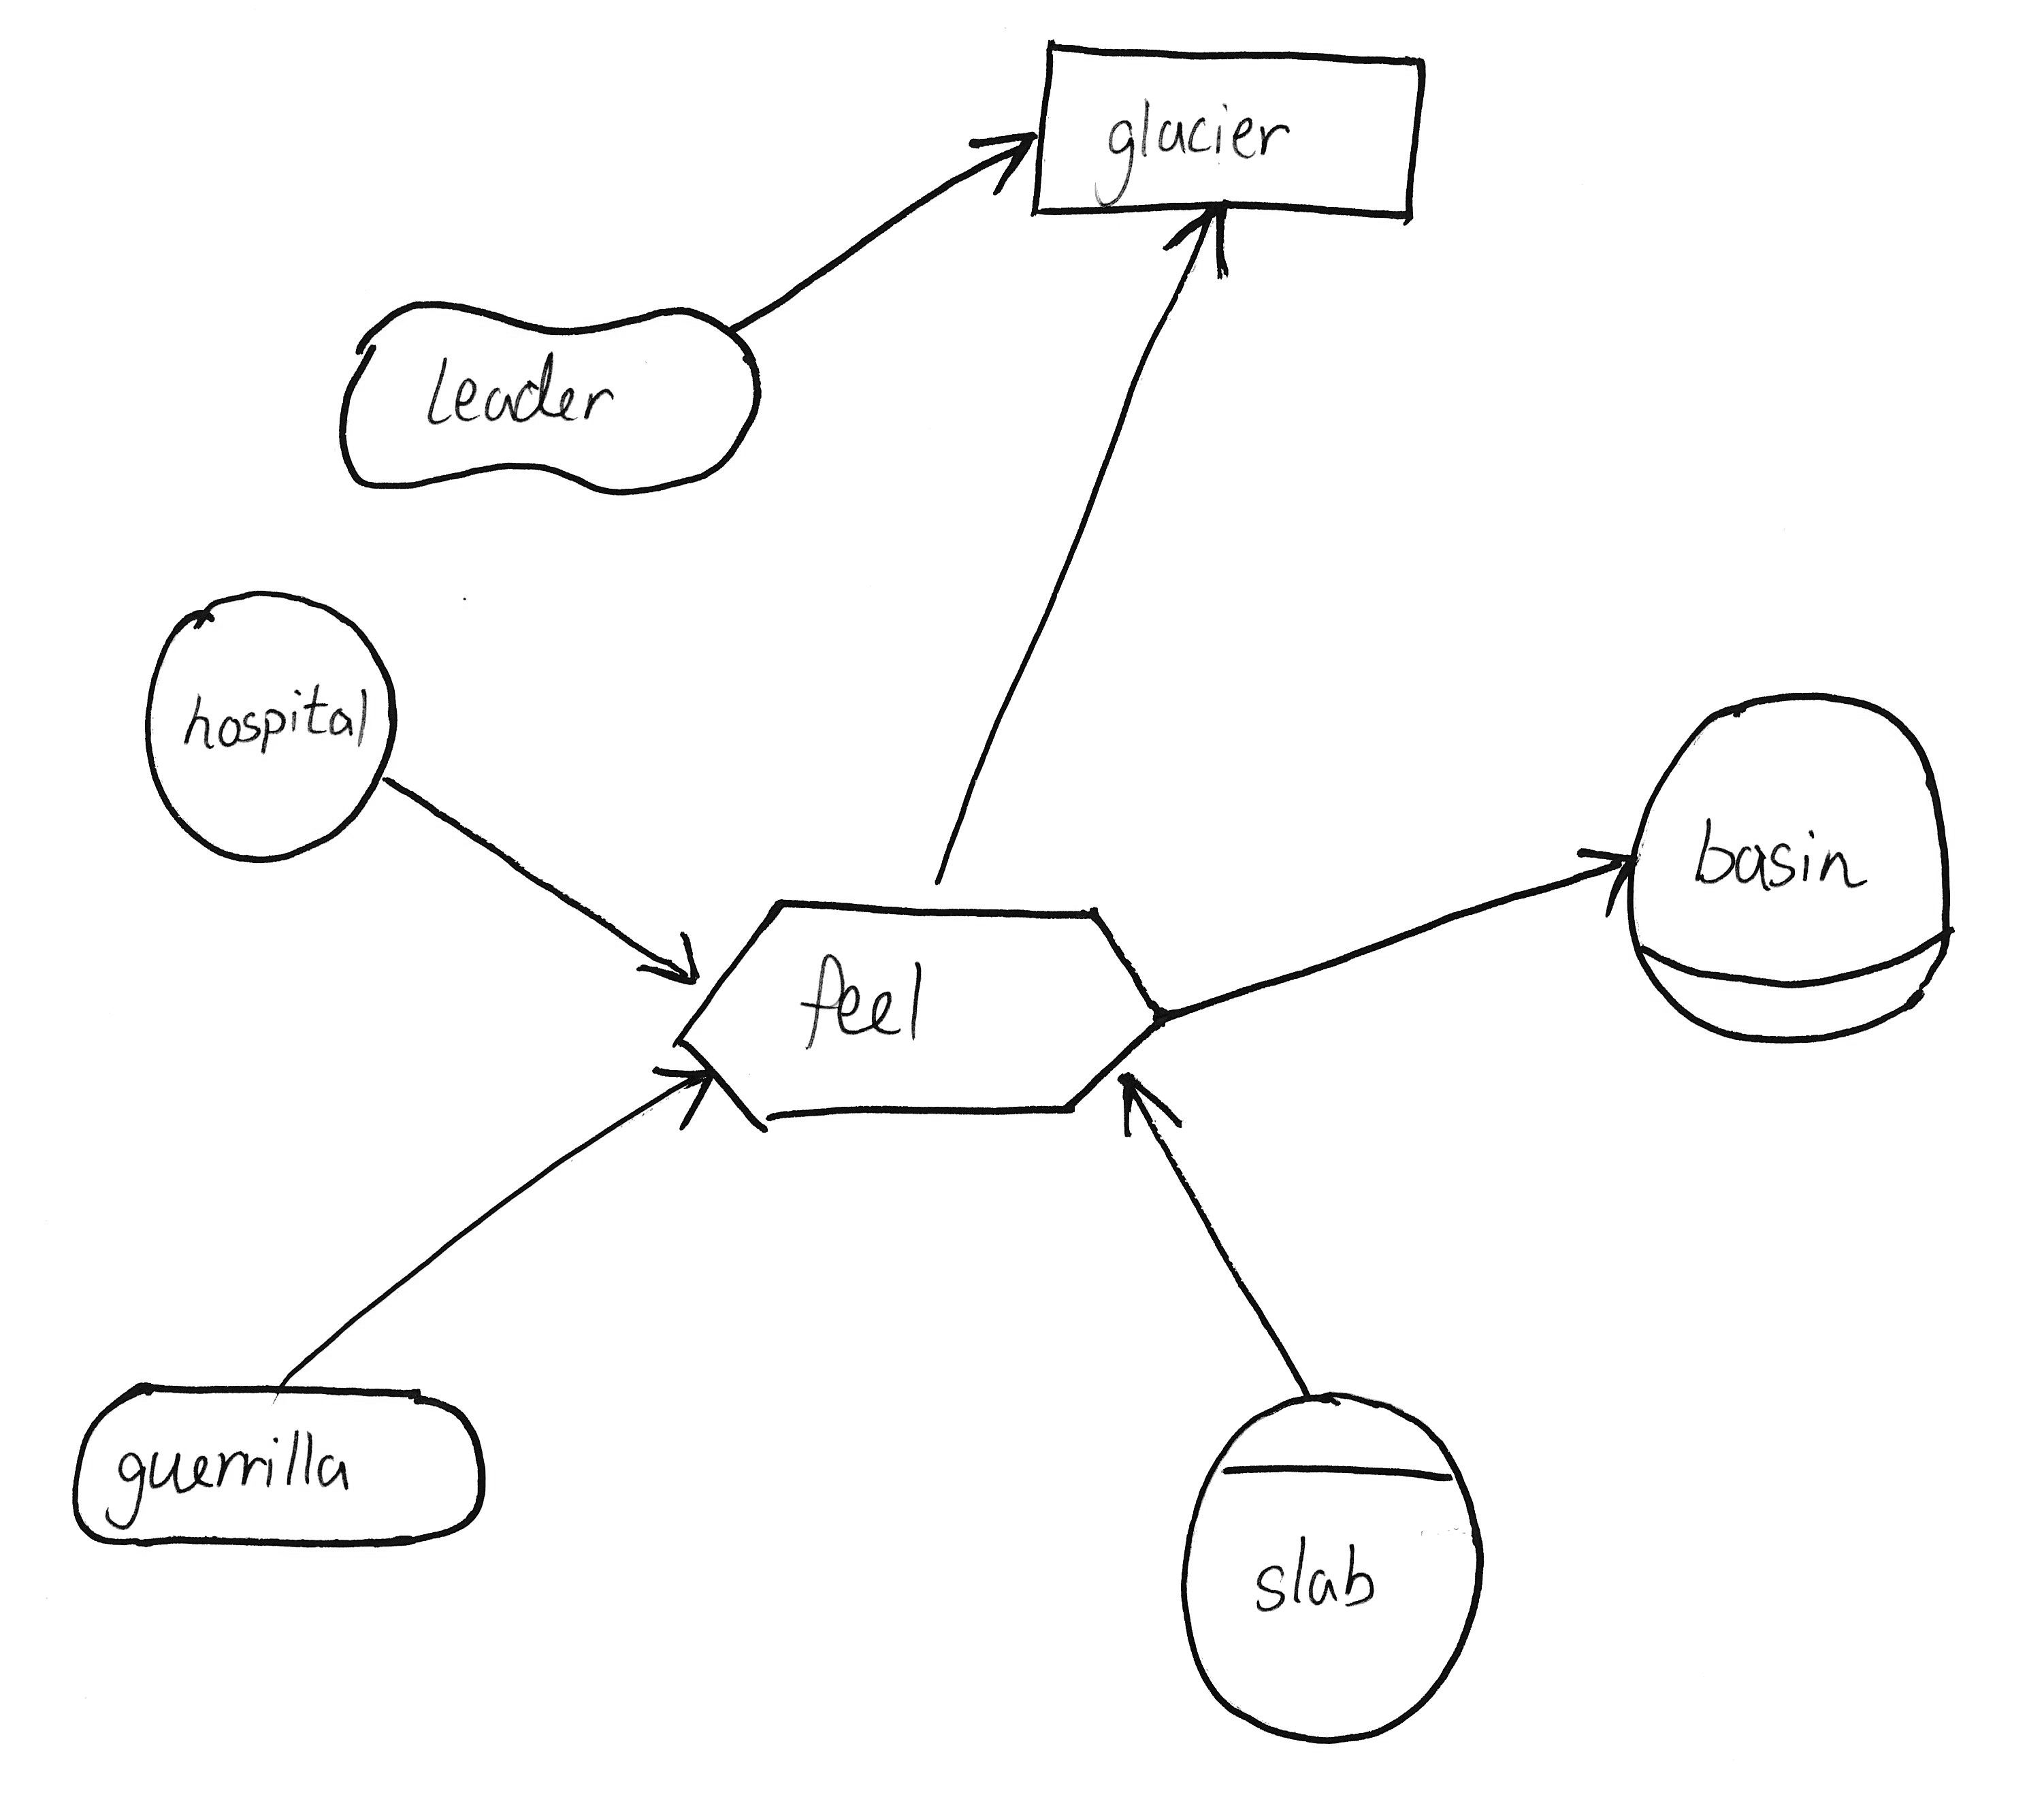actor: (130, 574, 412, 876)
agent: (1163, 1380, 1500, 1764)
arrow: (330, 290, 772, 509), (1152, 196, 1251, 297), (1557, 817, 1639, 928), (1102, 1065, 1194, 1150), (645, 1053, 721, 1152), (959, 118, 1036, 216), (624, 912, 706, 1001)
goal: (57, 1366, 495, 1564)
resource: (1013, 23, 1437, 238)
role: (1613, 678, 1966, 1060)
task: (659, 881, 1173, 1140)
